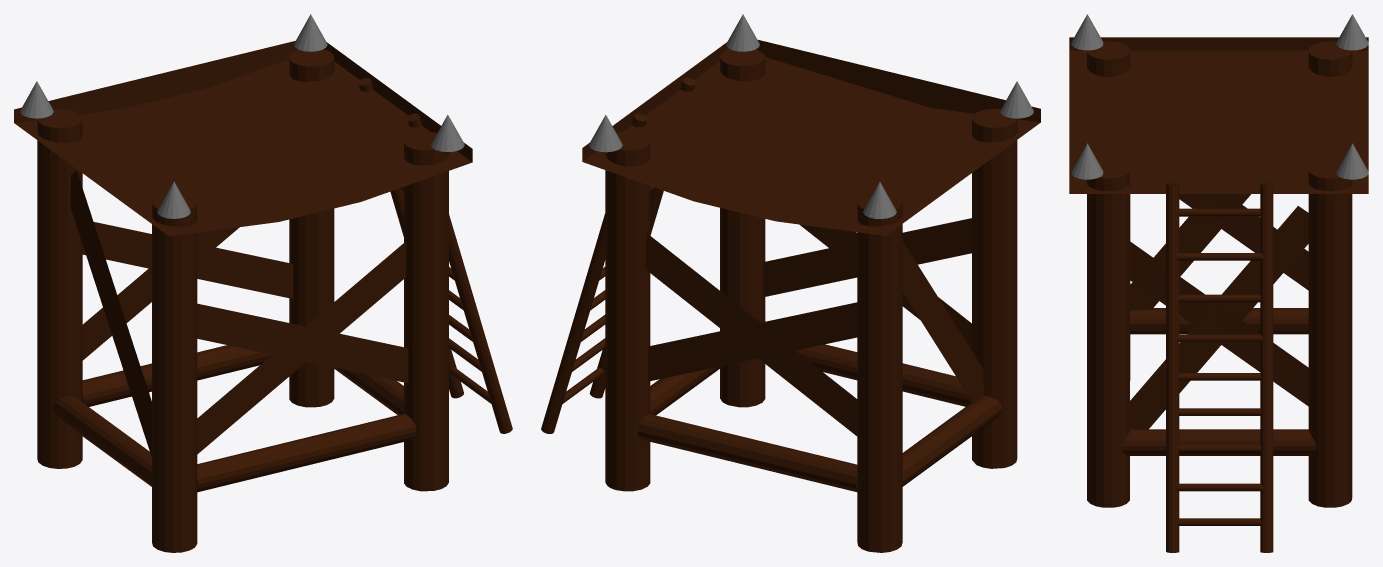
The model's file is torrevigia.fbx.
3 renders of one model, left to right at view 1: azimuth 30°, elevation 25°; view 2: azimuth 150°, elevation 25°; view 3: azimuth 270°, elevation 25°, orthographic. The views are drawn at different scales.
Visible parts, largest first — view 1: torre; view 2: torre; view 3: torre.
Part boxes in pixels (x1,y1,x2,y2): torre: [14, 14, 512, 552]; torre: [541, 14, 1040, 552]; torre: [1069, 14, 1368, 552].
Size of the model in its own units: 981 by 886 by 664.
